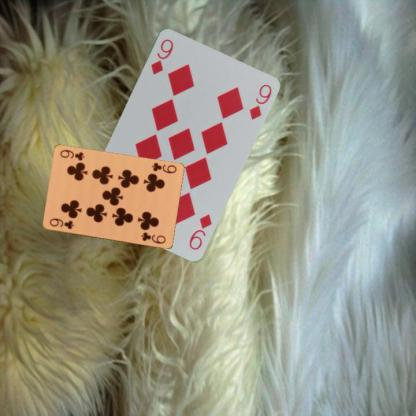9c: (149, 160, 177, 175), (47, 216, 75, 230)
9d: (186, 211, 213, 251), (148, 36, 174, 76)
